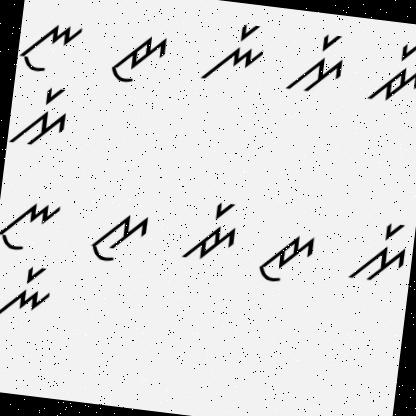jar: (176, 190, 244, 266), (365, 37, 416, 108)
jaw: (249, 222, 319, 290), (102, 26, 172, 90)
nyar: (196, 13, 270, 89), (0, 257, 54, 328)
nyaw: (0, 190, 65, 260), (18, 16, 84, 79)
sar: (342, 212, 412, 289), (8, 82, 76, 154), (286, 26, 351, 98)
saw: (84, 203, 154, 268)
